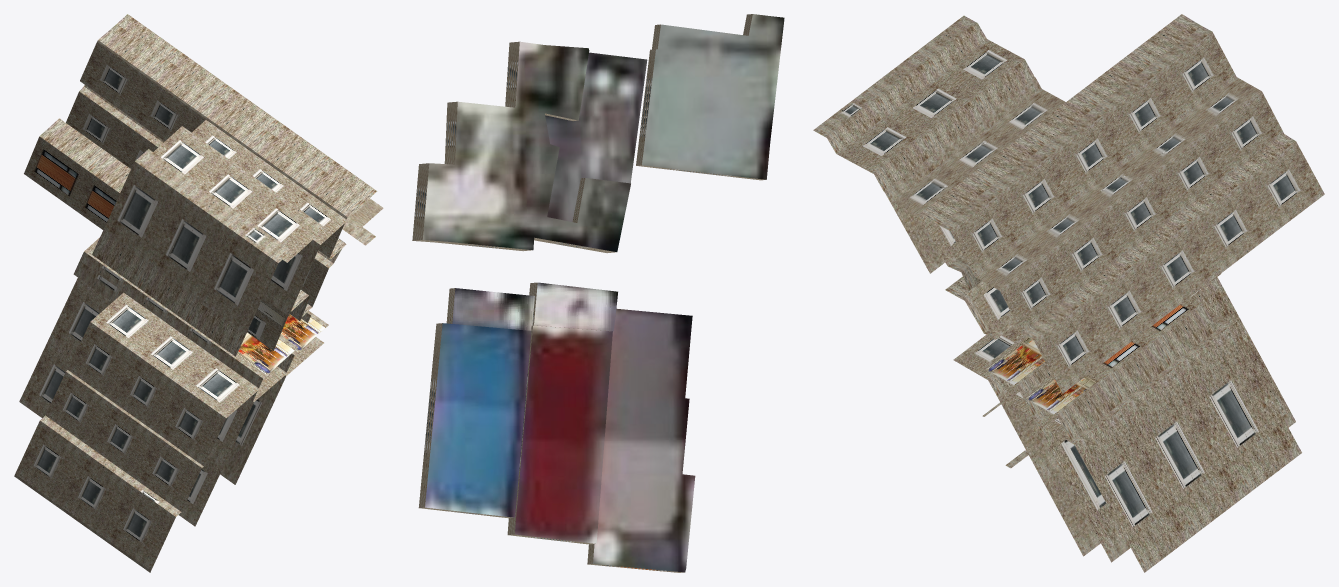
3 renders of one model, left to right at view 1: azimuth 30°, elevation 25°; view 2: azimuth 150°, elevation 25°; view 3: azimuth 270°, elevation 25°, orthographic. The views are drawn at different scales.
Size of the model in its own units: 18.84 by 30.06 by 26.27.
Materials: 27 (27 with a texture image).
